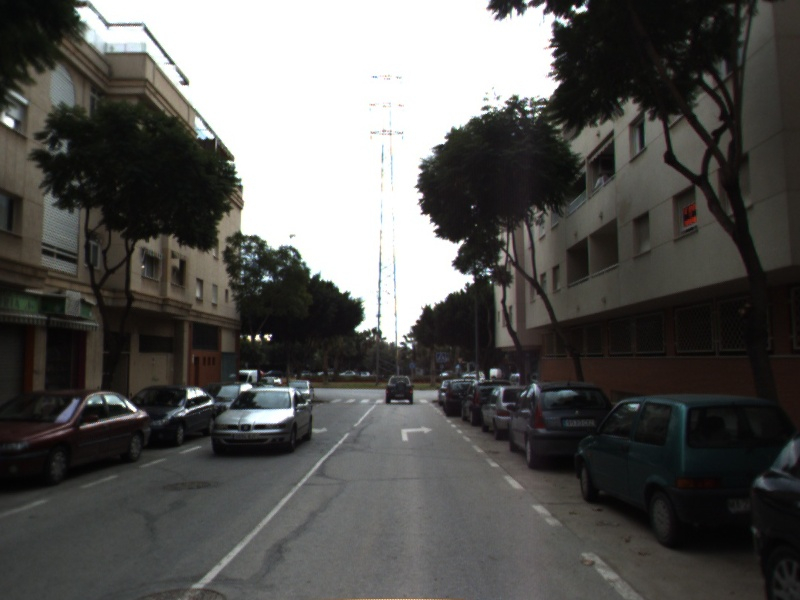RIGHT: (399, 423, 436, 443)
